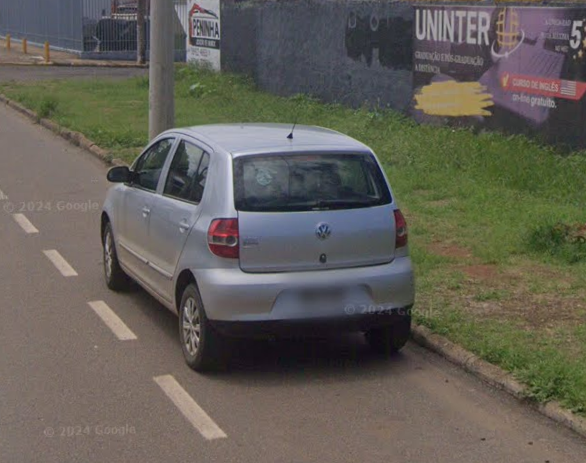car: (94, 108, 419, 376)
